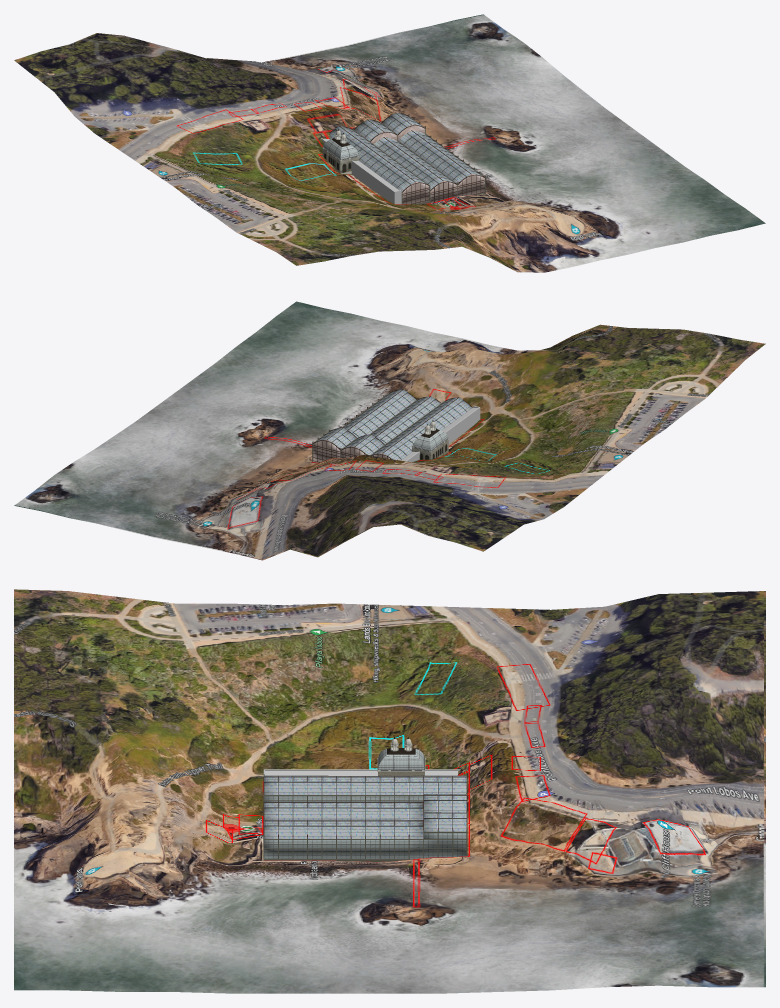
File: bath_structure_with_dome.fbx
The picture shows the model from 3 angles, top to bottom: view 1: azimuth 30°, elevation 25°; view 2: azimuth 150°, elevation 25°; view 3: azimuth 270°, elevation 25°; orthographic projection. The views are drawn at different scales.
Parts seen in each view (by area): view 1: Terrain, front, front.002, front.003, back, dome; view 2: Terrain, front, front.003, front.002, back, dome; view 3: Terrain, front, front.003, front.002, dome, back.
Part boxes in pixels (bbox=[...]): Terrain: bbox=[14, 14, 765, 272]; front: bbox=[382, 113, 484, 196]; front.002: bbox=[354, 119, 457, 202]; front.003: bbox=[330, 126, 429, 204]; back: bbox=[323, 138, 401, 204]; dome: bbox=[323, 138, 358, 159]; Terrain: bbox=[14, 301, 765, 560]; front: bbox=[313, 389, 415, 462]; front.003: bbox=[372, 397, 471, 460]; front.002: bbox=[341, 396, 440, 458]; back: bbox=[401, 407, 480, 462]; dome: bbox=[412, 429, 447, 450]; Terrain: bbox=[14, 589, 765, 993]; front: bbox=[264, 812, 466, 858]; front.003: bbox=[264, 775, 466, 801]; front.002: bbox=[264, 794, 466, 819]; dome: bbox=[378, 748, 424, 769]; back: bbox=[265, 771, 458, 775].
Bounding box in the file's own units: 41549 × 6800 × 43291.
